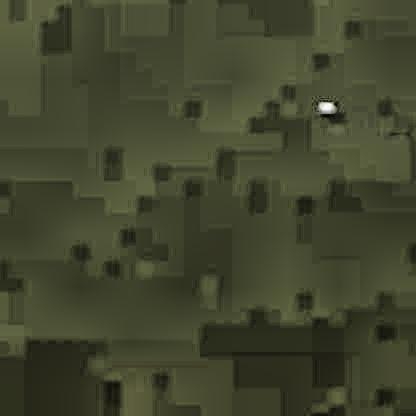golfball: (314, 98, 334, 115)
